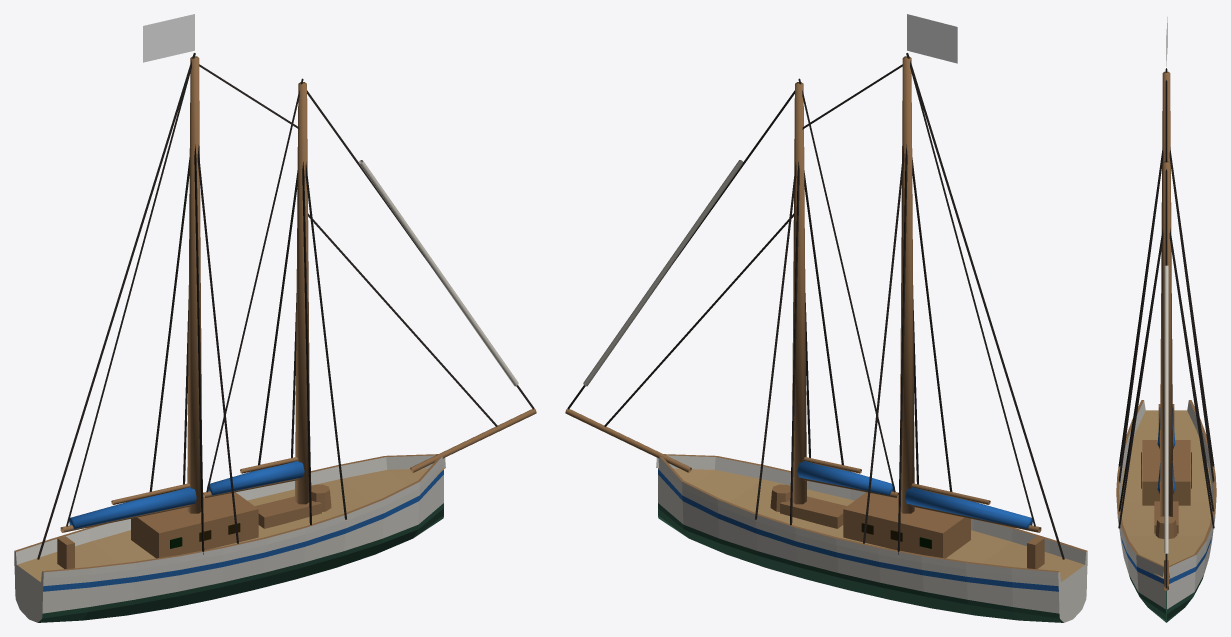
The model's file is hull_schooner_large_docked.glb.
3 views of the same model, side by side, from view 1: azimuth 30°, elevation 25°; view 2: azimuth 150°, elevation 25°; view 3: azimuth 270°, elevation 25° (orthographic). The views are drawn at different scales.
Visible parts, largest first — view 1: hull_schooner_large_docked_hull, hull_schooner_large_docked_rigging, hull_schooner_large_docked_mast, hull_schooner_large_docked_deck, hull_schooner_large_docked_sail_cover_fore, hull_schooner_large_docked_deckgear, hull_schooner_large_docked_flag, hull_schooner_large_docked_sail_furled; view 2: hull_schooner_large_docked_hull, hull_schooner_large_docked_rigging, hull_schooner_large_docked_mast, hull_schooner_large_docked_deck, hull_schooner_large_docked_sail_cover_fore, hull_schooner_large_docked_deckgear, hull_schooner_large_docked_flag, hull_schooner_large_docked_sail_furled; view 3: hull_schooner_large_docked_hull, hull_schooner_large_docked_rigging, hull_schooner_large_docked_mast, hull_schooner_large_docked_deck, hull_schooner_large_docked_sail_furled, hull_schooner_large_docked_deckgear, hull_schooner_large_docked_sail_cover_fore.
Boxes of the visible parts, bbox=[...] form: hull_schooner_large_docked_hull: bbox=[14, 454, 445, 622]; hull_schooner_large_docked_rigging: bbox=[37, 53, 535, 559]; hull_schooner_large_docked_mast: bbox=[111, 56, 536, 513]; hull_schooner_large_docked_deck: bbox=[131, 492, 258, 558]; hull_schooner_large_docked_sail_cover_fore: bbox=[69, 461, 304, 529]; hull_schooner_large_docked_deckgear: bbox=[57, 484, 331, 568]; hull_schooner_large_docked_flag: bbox=[143, 14, 194, 62]; hull_schooner_large_docked_sail_furled: bbox=[359, 160, 518, 386]; hull_schooner_large_docked_hull: bbox=[656, 454, 1087, 622]; hull_schooner_large_docked_rigging: bbox=[566, 53, 1064, 559]; hull_schooner_large_docked_mast: bbox=[565, 56, 990, 513]; hull_schooner_large_docked_deck: bbox=[843, 492, 970, 558]; hull_schooner_large_docked_sail_cover_fore: bbox=[797, 461, 1032, 529]; hull_schooner_large_docked_deckgear: bbox=[770, 484, 1044, 568]; hull_schooner_large_docked_flag: bbox=[907, 14, 957, 63]; hull_schooner_large_docked_sail_furled: bbox=[583, 160, 742, 386]; hull_schooner_large_docked_hull: bbox=[1116, 400, 1216, 622]; hull_schooner_large_docked_rigging: bbox=[1118, 68, 1214, 588]; hull_schooner_large_docked_mast: bbox=[1160, 71, 1172, 590]; hull_schooner_large_docked_deck: bbox=[1142, 440, 1190, 505]; hull_schooner_large_docked_sail_furled: bbox=[1164, 265, 1168, 553]; hull_schooner_large_docked_deckgear: bbox=[1154, 404, 1178, 538]; hull_schooner_large_docked_sail_cover_fore: bbox=[1157, 409, 1175, 493].
Bounding box in the file's own units: 22 × 24.07 × 4.41.
